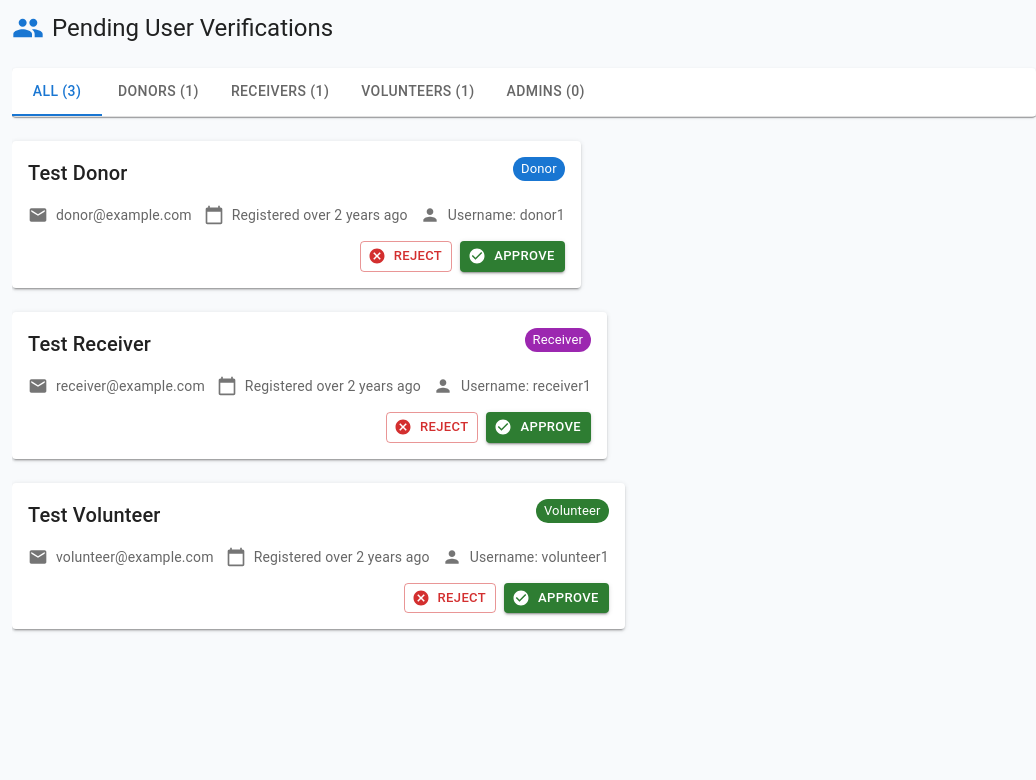
Scenario: UserVerificationList › should filter users by role when tab is clicked
expect the text "Test Donor" is shown: met, box [28,157,128,189]
# Click on Donors tab
Click the tab "Donors (1)" at (158, 92), box [102,68,215,116]
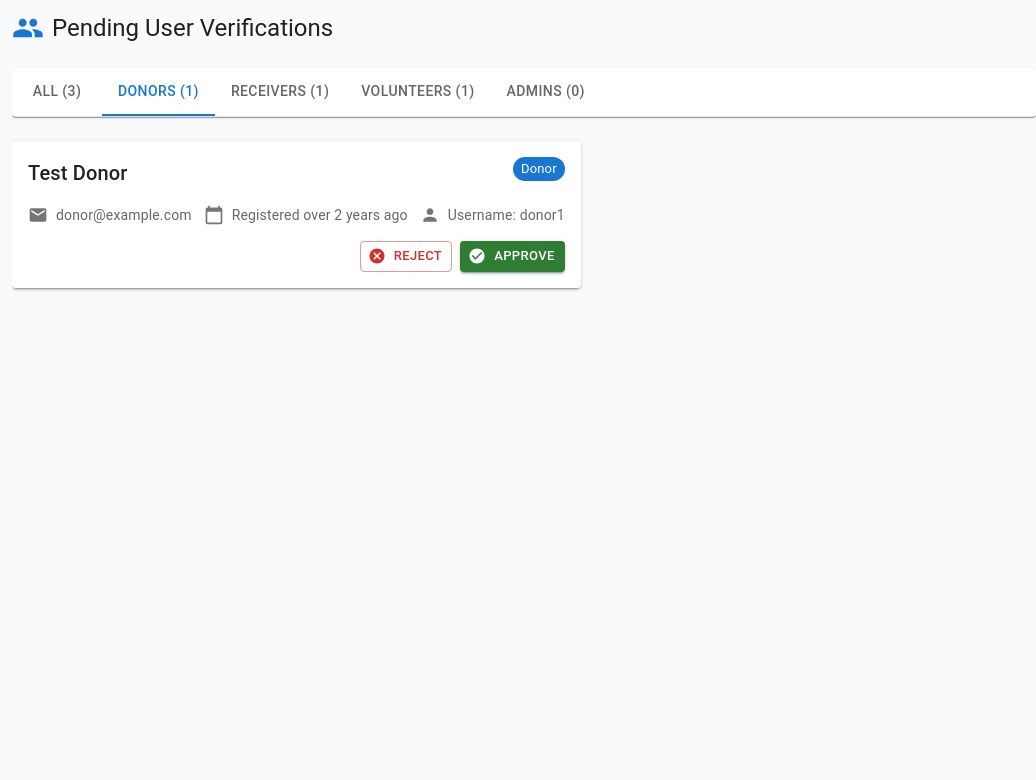
expect the text "Test Donor" is shown: met, box [28,157,128,189]
expect the text "Test Receiver" is gone: met
expect the text "Test Volunteer" is gone: met
